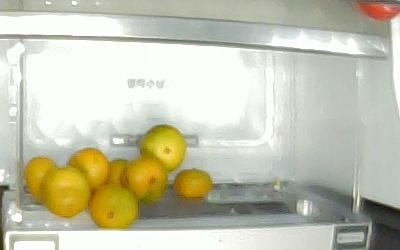tangerine: (41, 165, 90, 219), (139, 124, 186, 171), (122, 158, 167, 205), (90, 184, 139, 227), (66, 148, 111, 191), (24, 157, 57, 200), (174, 168, 212, 198), (107, 159, 129, 185)
